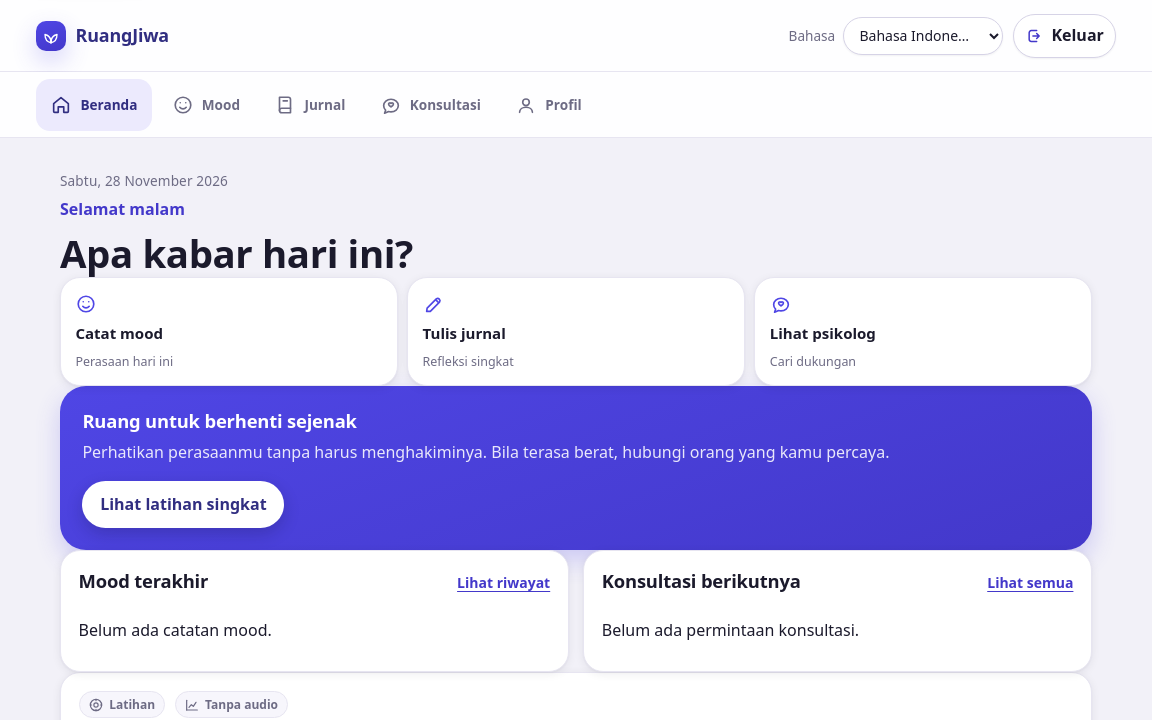
Test: keeps an unindexed entry untouched and retains the editor when pre-traversal cancellation is unavailable
Later steps or results of the test are not shown.
Expected: the heading "Apa kabar hari ini?" is shown, [60,226,413,278]
What coordinates should you click on to do the following:
click the link "Jurnal"
I would click on:
 (310, 105)
Its box is [274,94,345,116].
(page scrolled)
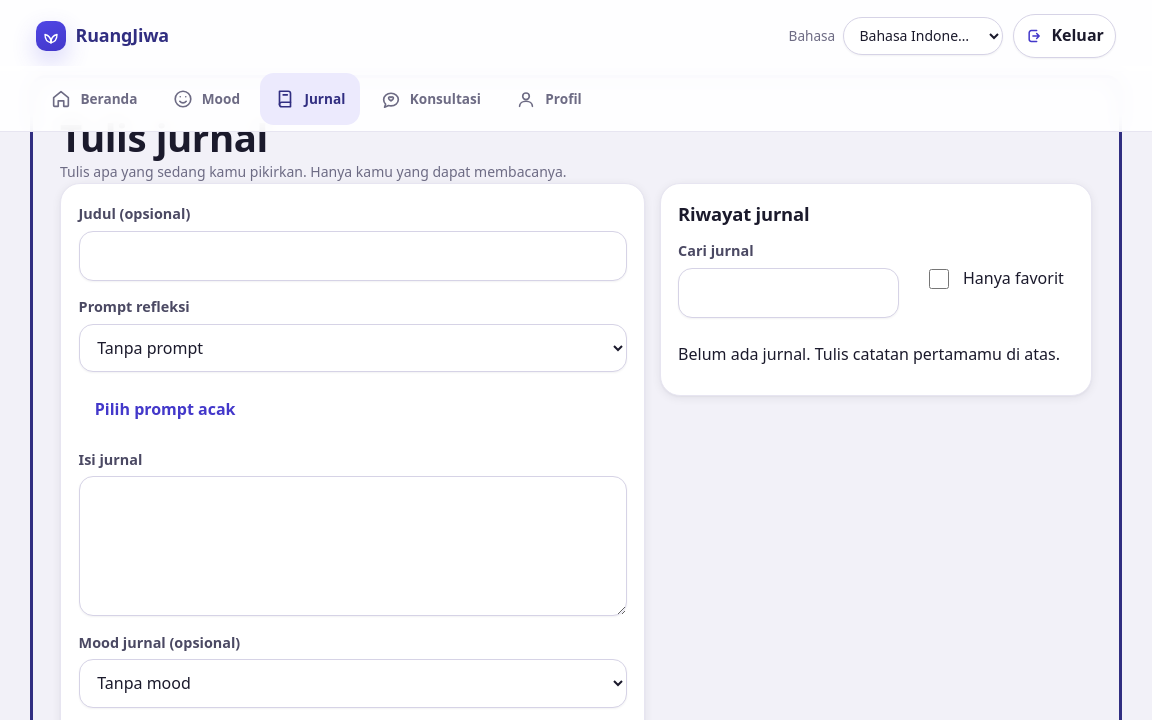
Expected: the heading "Tulis jurnal" is shown, [60,111,268,163]
